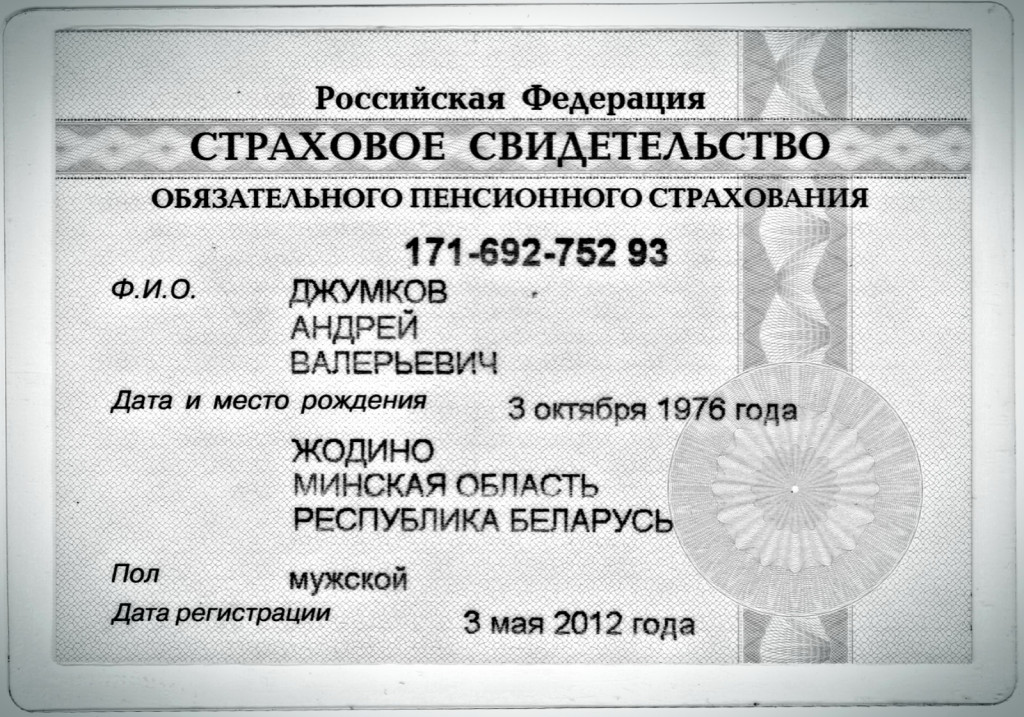text: (287, 430, 679, 540), (403, 231, 678, 275), (509, 390, 805, 426), (461, 605, 700, 643), (283, 343, 506, 380), (285, 274, 457, 310), (284, 307, 430, 345), (287, 564, 413, 595)
